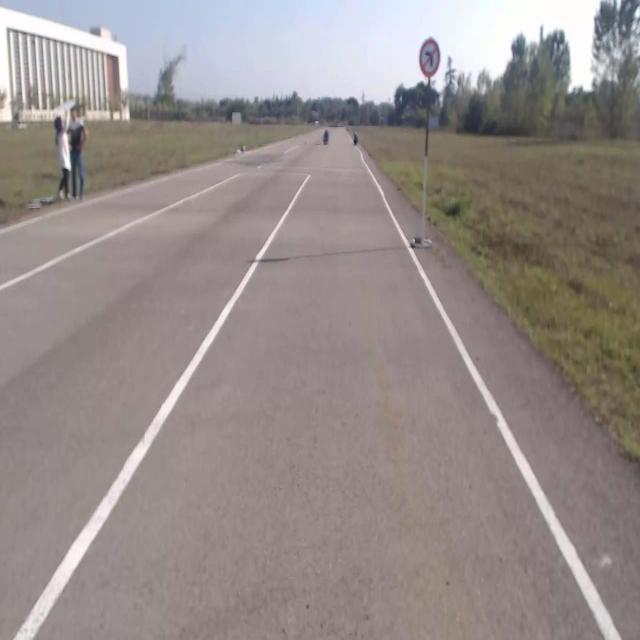soladonulmez: (420, 40, 439, 76)
